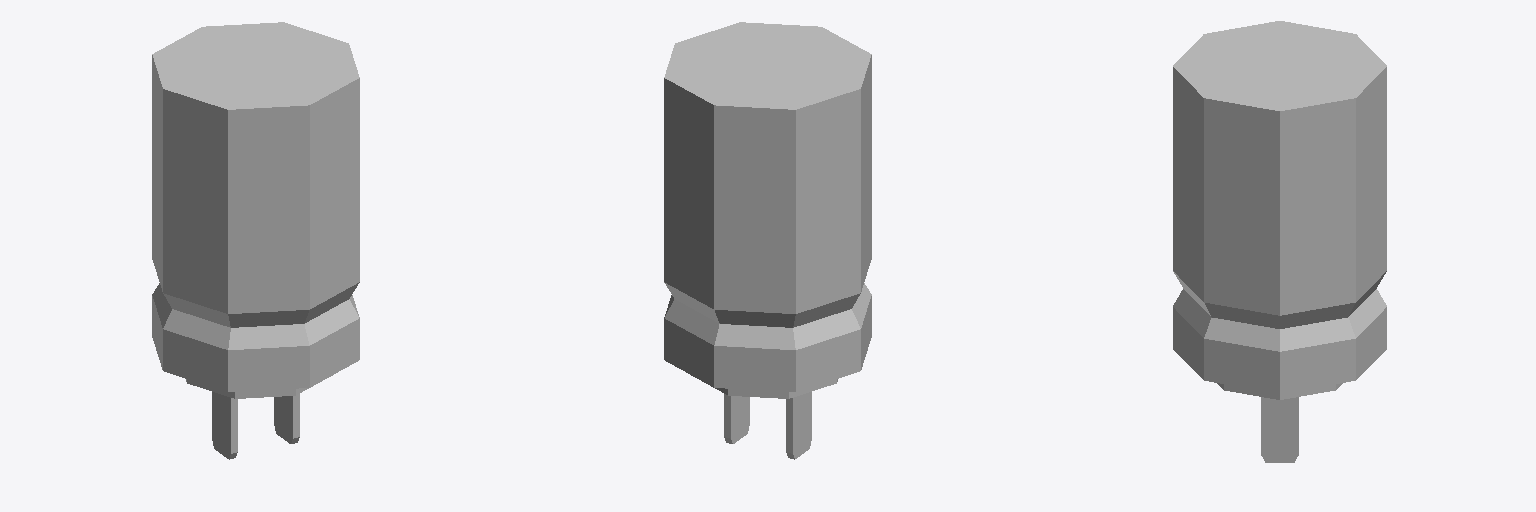
File: capacitor_etx_2.obj
3 renders of one model, left to right at view 1: azimuth 30°, elevation 25°; view 2: azimuth 150°, elevation 25°; view 3: azimuth 270°, elevation 25°, orthographic.
Parts seen in each view (by area): view 1: capacitor_etx_2; view 2: capacitor_etx_2; view 3: capacitor_etx_2.
Part boxes in pixels (bbox=[...]): capacitor_etx_2: bbox=[152, 22, 359, 459]; capacitor_etx_2: bbox=[664, 22, 871, 459]; capacitor_etx_2: bbox=[1173, 21, 1386, 462].
Bounding box in the file's own units: 0.0648 × 0.1264 × 0.0648.